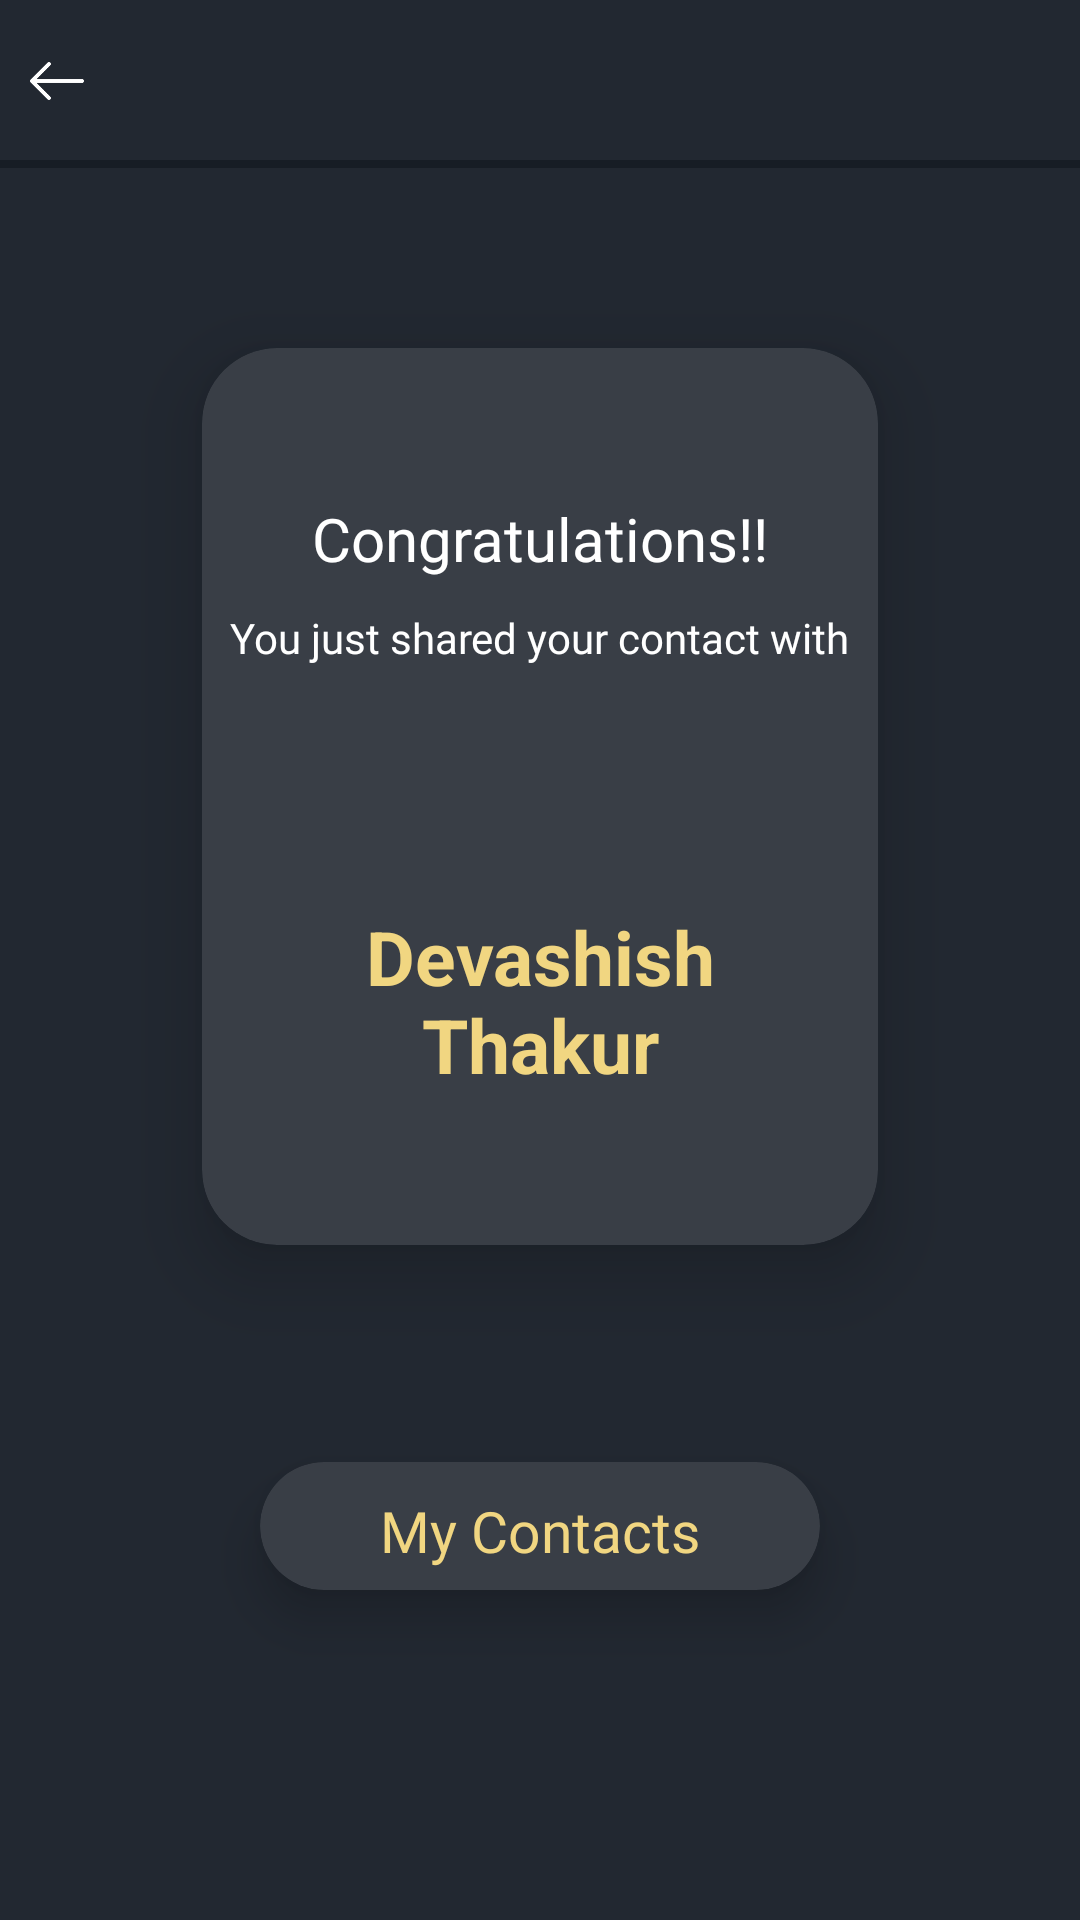

Screen size 1080x1920. Icon name, then its center in pixels as [x,y]:
back: [57,81]
